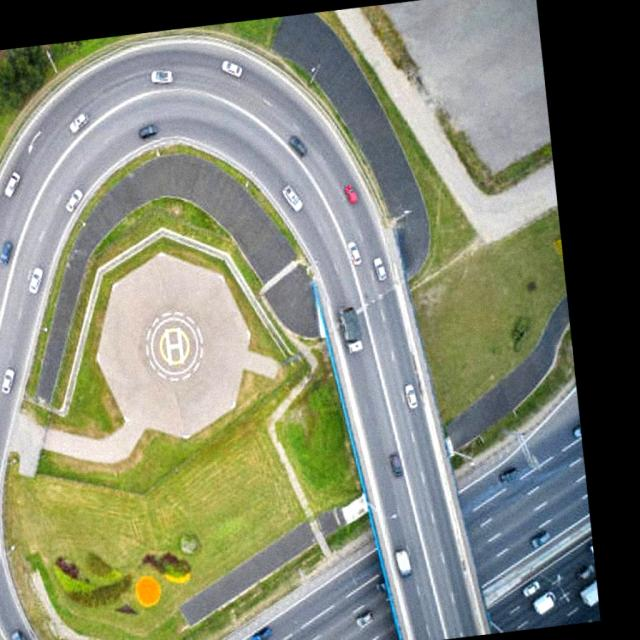helipad: (148, 314, 198, 376)
